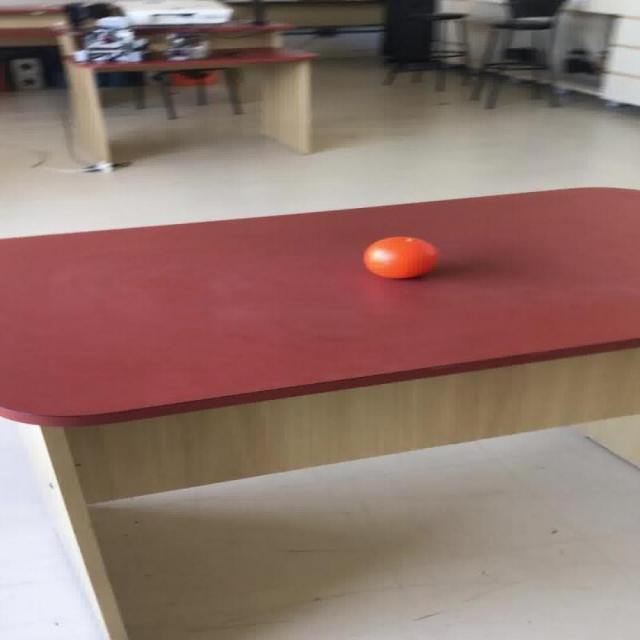Orange: (362, 235, 438, 279)
